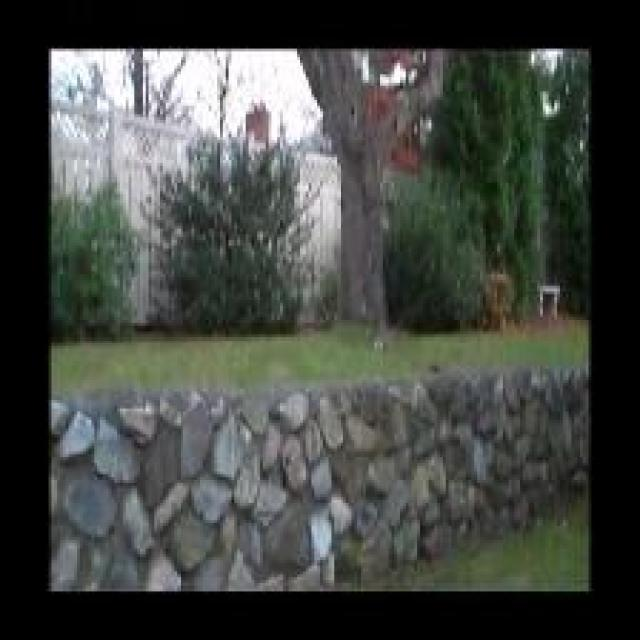other: (200, 73, 318, 144), (369, 80, 425, 172)
